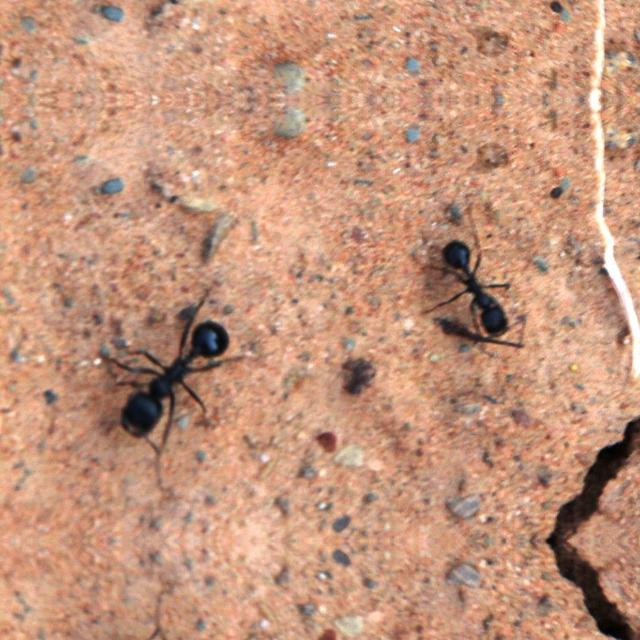Messor: (110, 302, 244, 448), (424, 231, 522, 349)
